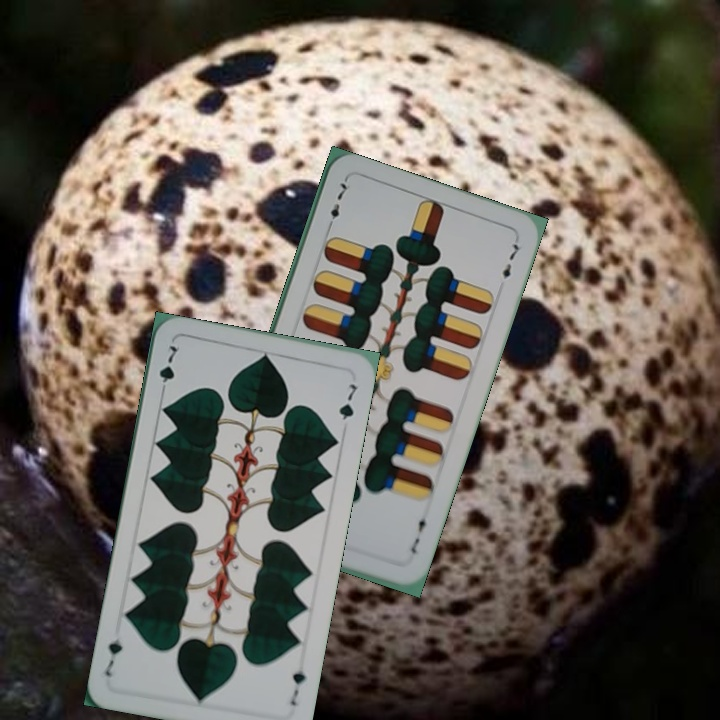E7: (322, 176, 350, 233), (406, 509, 431, 556)
G7: (155, 341, 183, 398), (286, 658, 308, 709)
